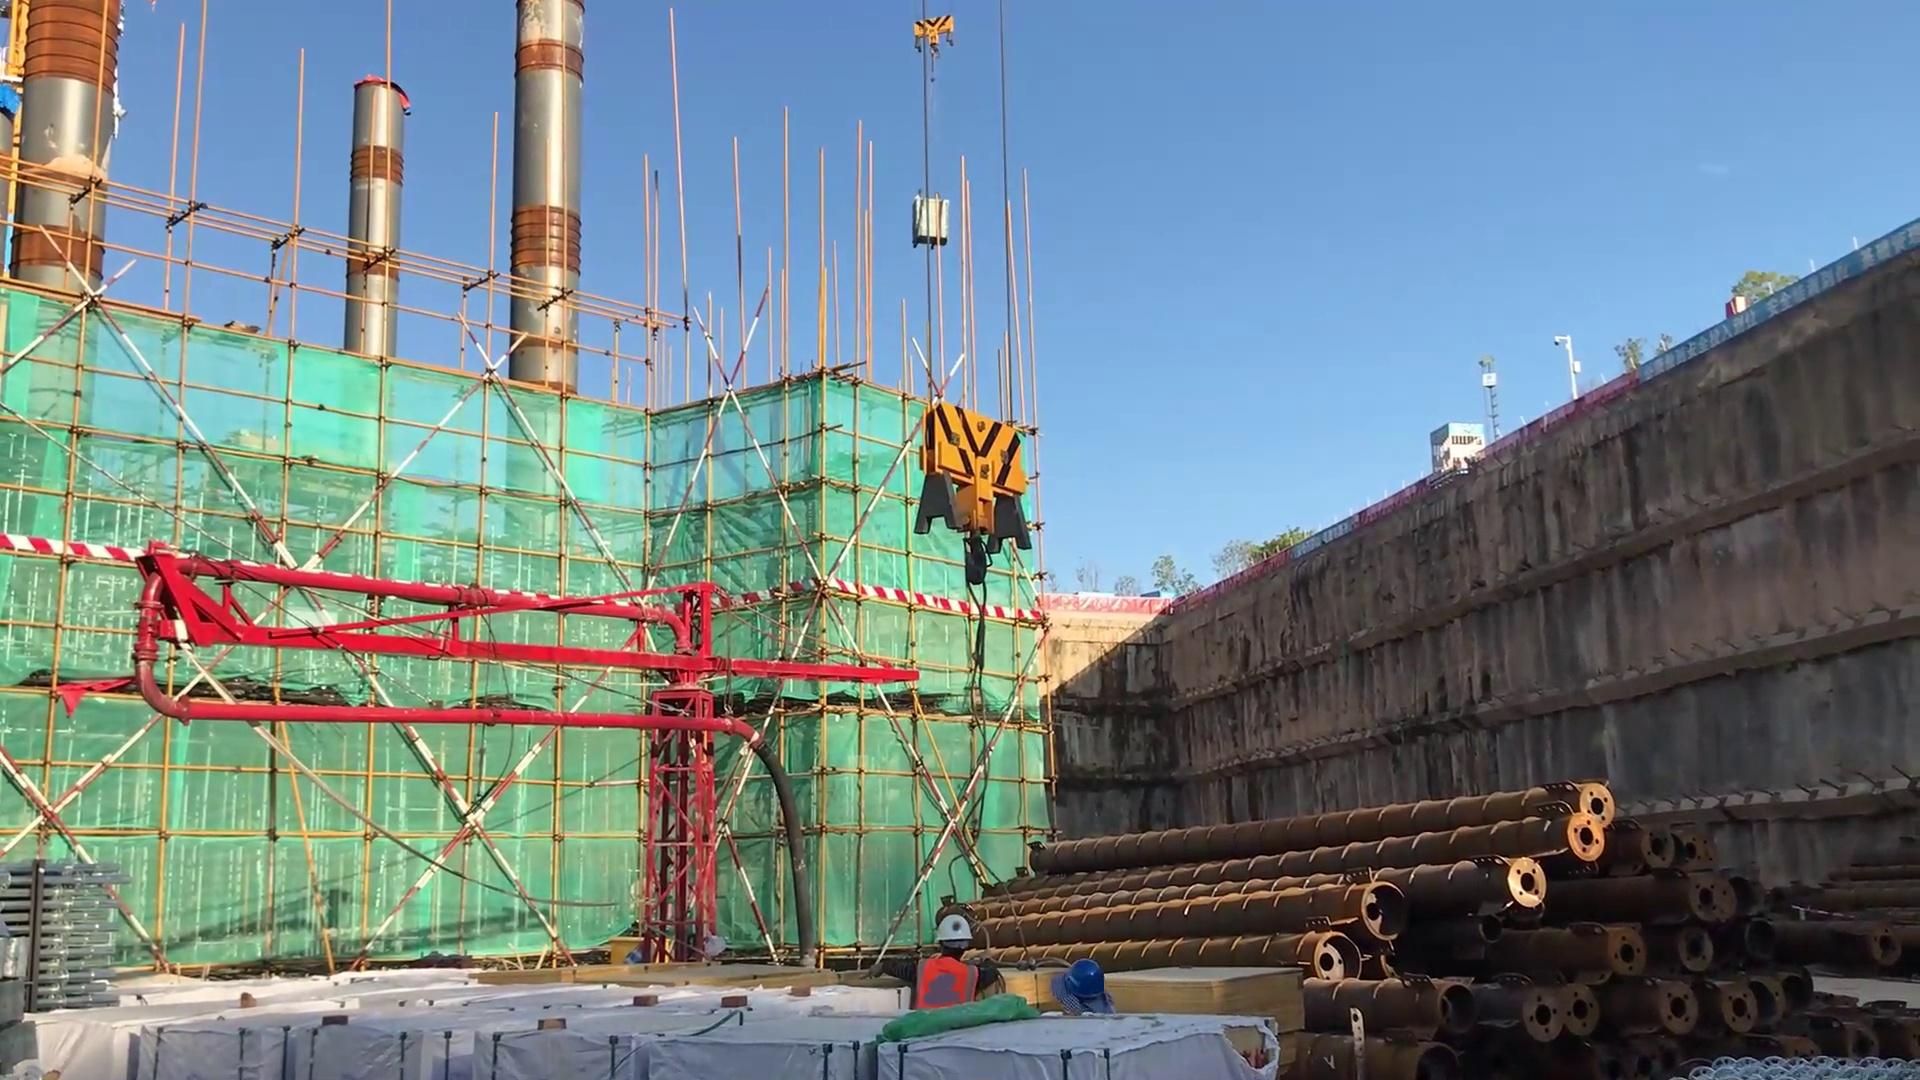board: (1052, 966, 1318, 1030)
ebox: (608, 932, 677, 967)
helmet: (1055, 948, 1119, 1029), (931, 906, 983, 965)
hook: (906, 380, 1054, 601), (904, 9, 964, 88)
person: (908, 904, 1010, 1032)
scaffold: (6, 848, 134, 1016)
slogan: (1633, 211, 1920, 388), (1291, 509, 1380, 569)
vest: (909, 944, 989, 1018)
